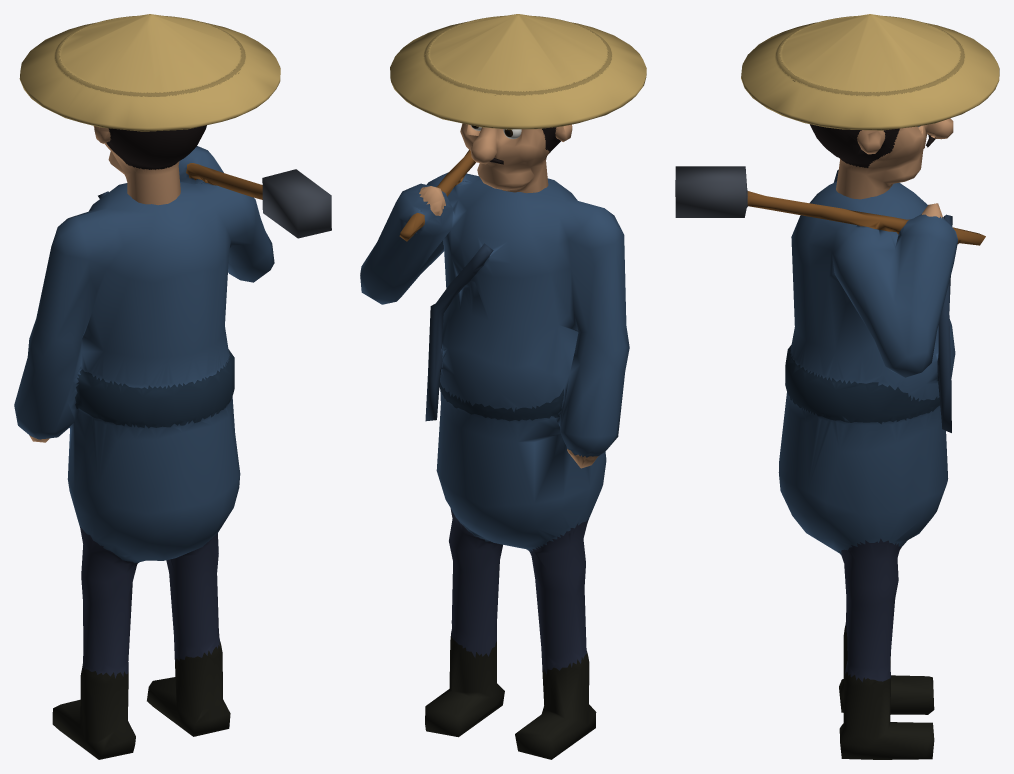
The model's file is crew-a.glb.
3 renders of one model, left to right at view 1: azimuth 30°, elevation 25°; view 2: azimuth 150°, elevation 25°; view 3: azimuth 270°, elevation 25°, orthographic.
Visible parts, largest first — view 1: body_lod0, head_lod0; view 2: body_lod0, head_lod0; view 3: body_lod0, head_lod0.
Part boxes in pixels (<box>): body_lod0: <box>14,146,331,759</box>; head_lod0: <box>19,14,280,205</box>; body_lod0: <box>360,150,629,759</box>; head_lod0: <box>390,14,646,193</box>; body_lod0: <box>675,166,985,759</box>; head_lod0: <box>741,14,999,199</box>.
Size of what is drawn, in the model's own units: 0.7334 by 1.98 by 0.8095.
